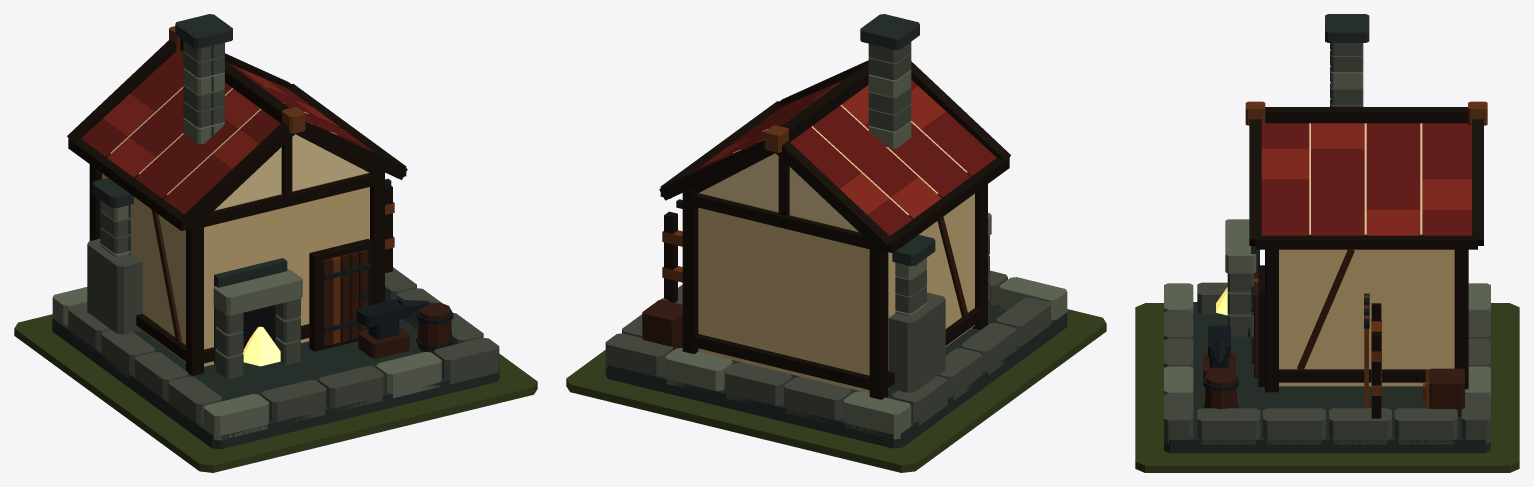
File: forge_t3.glb
3 views of the same model, side by side, from view 1: azimuth 30°, elevation 25°; view 2: azimuth 150°, elevation 25°; view 3: azimuth 270°, elevation 25° (orthographic). The views are drawn at different scales.
Visible parts, largest first — view 1: MMR | forge | T03 Architecture.001, MMR | forge | Tier 03 Ground.001; view 2: MMR | forge | T03 Architecture.001, MMR | forge | Tier 03 Ground.001; view 3: MMR | forge | T03 Architecture.001, MMR | forge | Tier 03 Ground.001.
Boxes of the visible parts, x1,y1,x2,y2 form: MMR | forge | T03 Architecture.001: (52, 14, 499, 449); MMR | forge | Tier 03 Ground.001: (14, 314, 537, 472); MMR | forge | T03 Architecture.001: (605, 14, 1067, 448); MMR | forge | Tier 03 Ground.001: (566, 309, 1106, 472); MMR | forge | T03 Architecture.001: (1164, 14, 1490, 453); MMR | forge | Tier 03 Ground.001: (1135, 303, 1519, 472).
Bounding box in the file's own units: 2.35 × 2.28 × 2.35.
2 materials, 1 textured.
